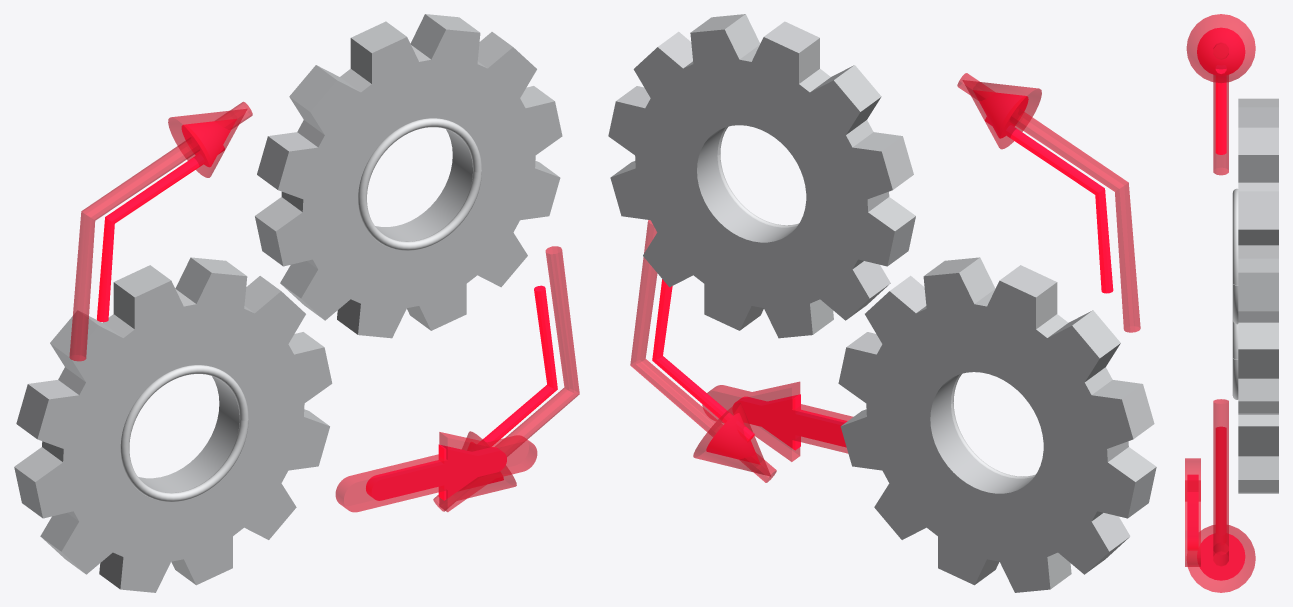
Rendered from 13-etl-integration.glb.
The picture shows the model from 3 angles, left to right: view 1: azimuth 30°, elevation 25°; view 2: azimuth 150°, elevation 25°; view 3: azimuth 270°, elevation 25°; orthographic projection. The views are drawn at different scales.
Visible parts, largest first — view 1: BC satin iron, BC ruby optical glass, BC internal ruby light, BC polished iron bevel; view 2: BC satin iron, BC ruby optical glass, BC internal ruby light, BC polished iron bevel; view 3: BC satin iron, BC ruby optical glass, BC internal ruby light, BC polished iron bevel.
Part boxes in pixels (x1=…): BC satin iron: x1=14, y1=14, x2=562, y2=592; BC ruby optical glass: x1=69, y1=102, x2=579, y2=512; BC internal ruby light: x1=97, y1=119, x2=557, y2=500; BC polished iron bevel: x1=120, y1=118, x2=481, y2=501; BC satin iron: x1=608, y1=14, x2=1156, y2=592; BC ruby optical glass: x1=630, y1=73, x2=1140, y2=482; BC internal ruby light: x1=652, y1=90, x2=1113, y2=464; BC polished iron bevel: x1=717, y1=126, x2=1035, y2=478; BC satin iron: x1=1238, y1=98, x2=1278, y2=493; BC ruby optical glass: x1=1185, y1=14, x2=1255, y2=592; BC internal ruby light: x1=1187, y1=27, x2=1245, y2=580; BC polished iron bevel: x1=1232, y1=188, x2=1238, y2=399.
Size of the model in its own units: 2.04 by 1.82 by 0.325.
